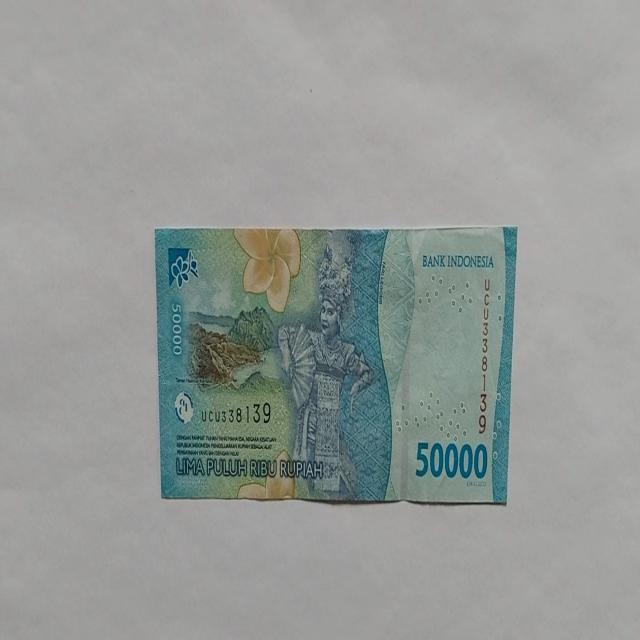lima puluh ribu rupiah: (155, 225, 518, 505), (276, 240, 374, 500)
